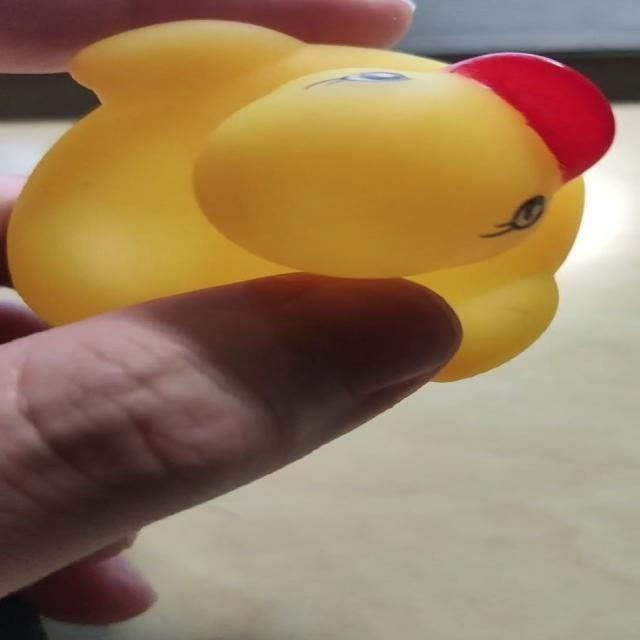rubber-duck: (7, 20, 611, 379)
